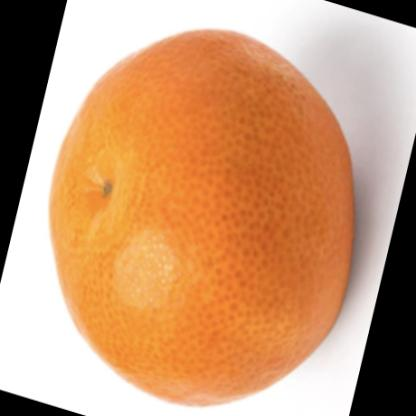fresh: (50, 31, 355, 404)
